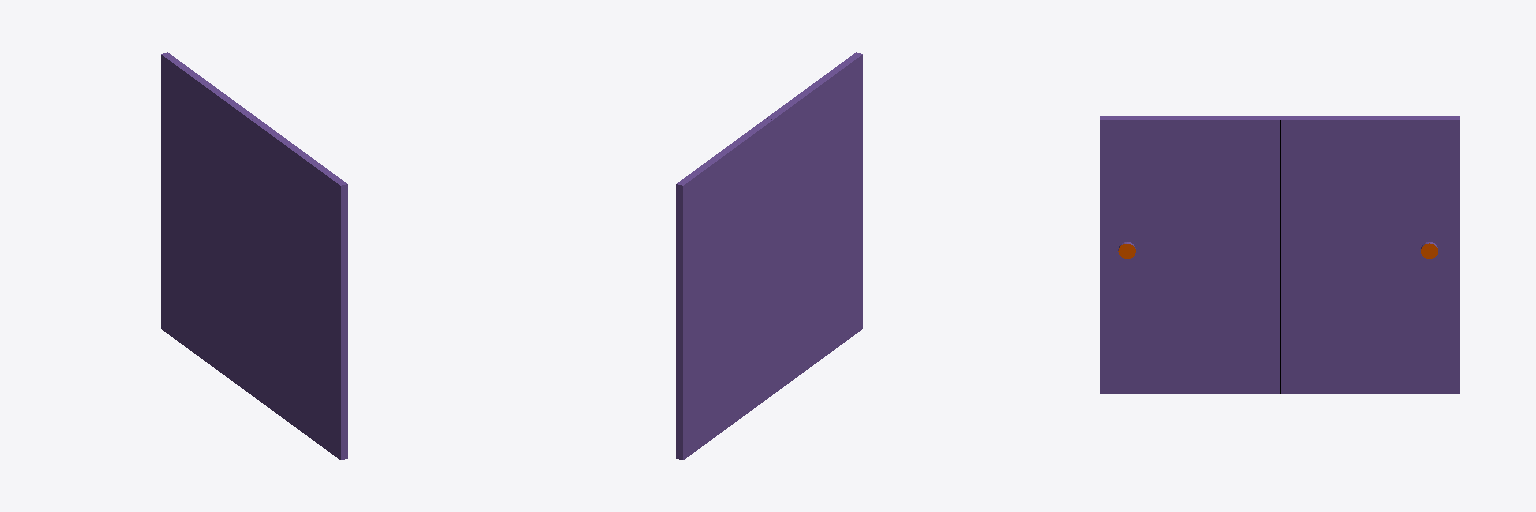
3 views of the same model, side by side, from view 1: azimuth 30°, elevation 25°; view 2: azimuth 150°, elevation 25°; view 3: azimuth 270°, elevation 25° (orthographic).
Visible parts, largest first — view 1: Cube.019_Cube.054; view 2: Cube.019_Cube.054; view 3: Cube.019_Cube.054.
Part boxes in pixels (bbox=[...]): Cube.019_Cube.054: bbox=[161, 52, 347, 459]; Cube.019_Cube.054: bbox=[676, 52, 862, 459]; Cube.019_Cube.054: bbox=[1100, 116, 1459, 393].
Bounding box in the file's own units: 0.5891 × 14.62 × 17.37.
1 materials, 1 textured.